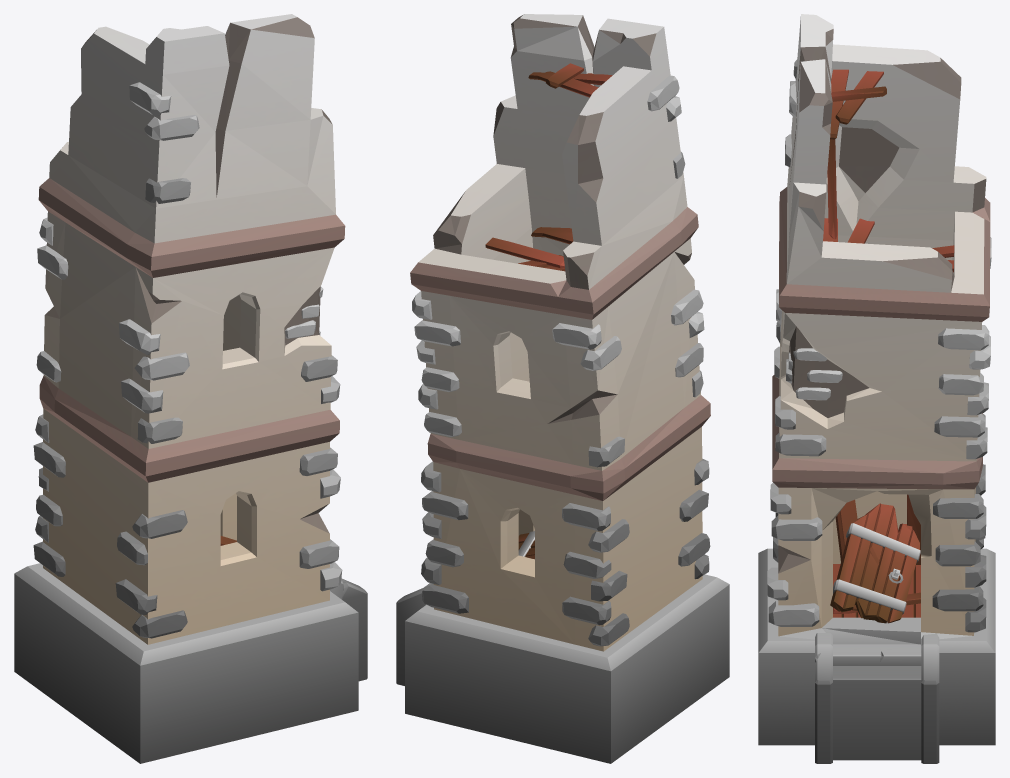
The model's file is DamagedTower2.fbx.
3 views of the same model, side by side, from view 1: azimuth 30°, elevation 25°; view 2: azimuth 150°, elevation 25°; view 3: azimuth 270°, elevation 25° (orthographic). The views are drawn at different scales.
Parts seen in each view (by area): view 1: DamagedTower2; view 2: DamagedTower2; view 3: DamagedTower2.
Part boxes in pixels (<box>): DamagedTower2: <box>14,14,367,763</box>; DamagedTower2: <box>396,14,729,763</box>; DamagedTower2: <box>758,14,995,763</box>.
Bounding box in the file's own units: 5.38 × 13.8 × 4.54.
